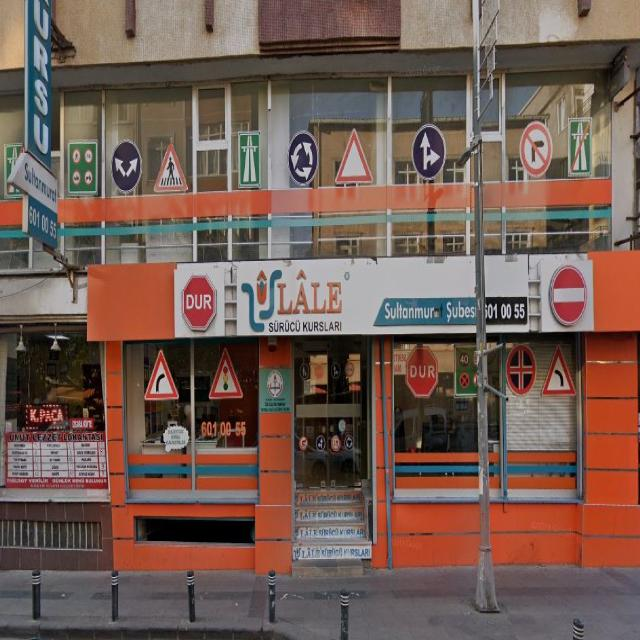dur: (182, 274, 216, 330), (405, 346, 438, 399)
girisyok: (549, 266, 589, 326)
ilerisag: (412, 123, 447, 182)
sagadonulmez: (520, 120, 552, 178)
